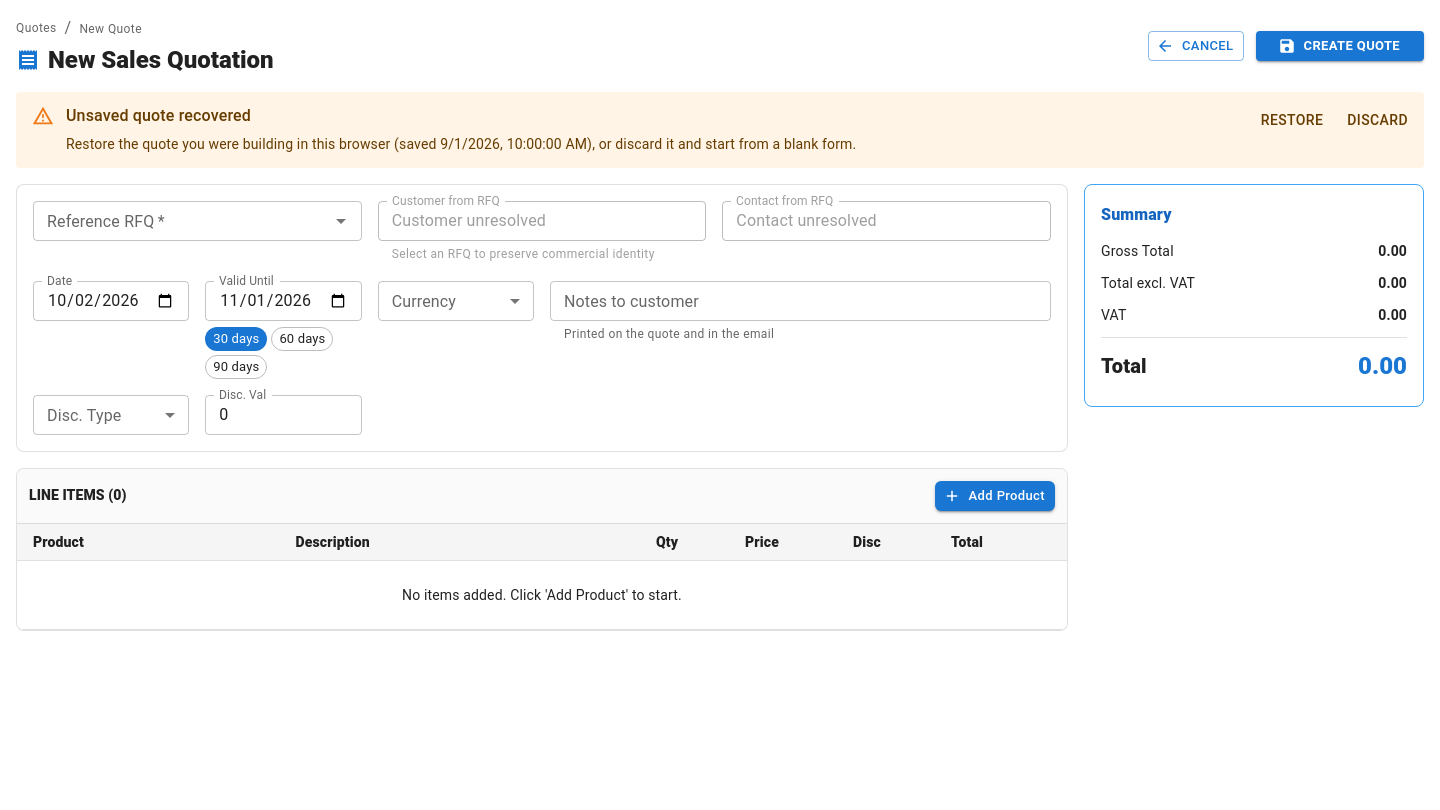
Test case: CreateQuotePage — a draft left in this browser › is offered back, and Restore puts it on the form
The width and height of the screenshot is (1440, 810).
Expected: the text "Unsaved quote recovered" is shown, [66,106,251,125]
Click the button "Restore" at {"x": 1292, "y": 120}, box [1253,102,1331,138]
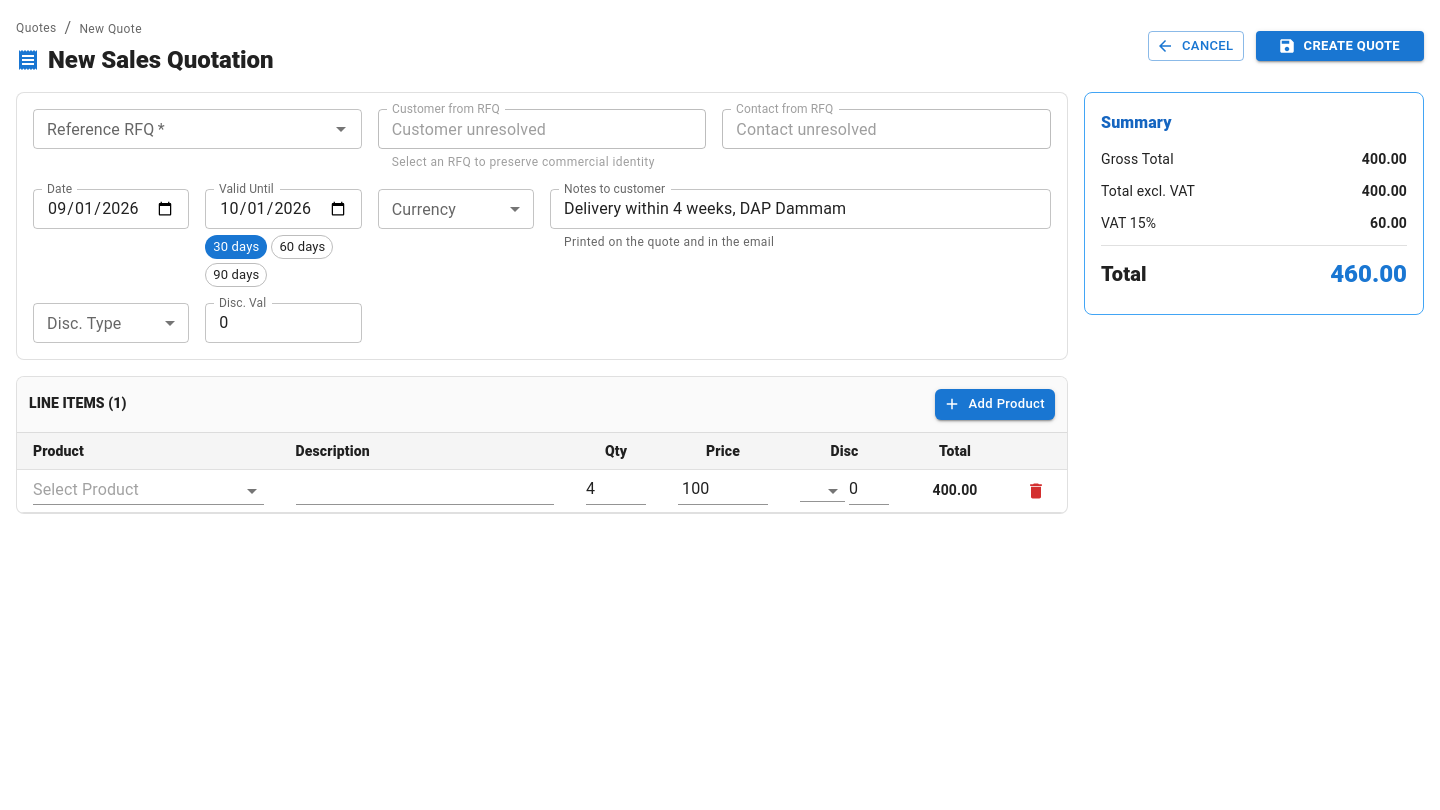
Result: the field labelled "Notes to customer" holds "Delivery within 4 weeks, DAP Dammam" at [550,189,1051,229]
Result: the text "Unsaved quote recovered" is gone
